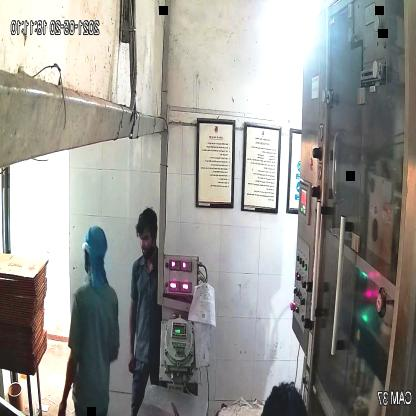no_goggles: (137, 231, 157, 249)
